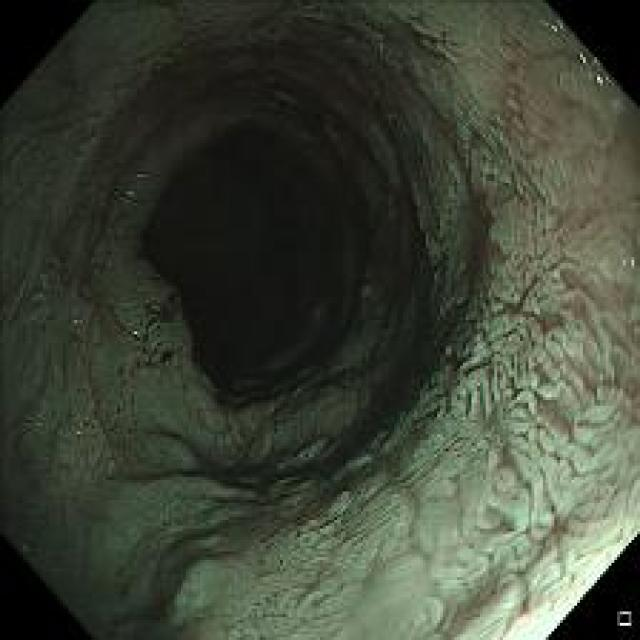color misalignment: (124, 185, 136, 196), (134, 168, 146, 179), (71, 315, 82, 326), (72, 428, 86, 436)
contrast: (136, 85, 381, 425)
saturation: (496, 589, 589, 636)
specularity: (578, 49, 616, 98), (538, 10, 568, 30)
